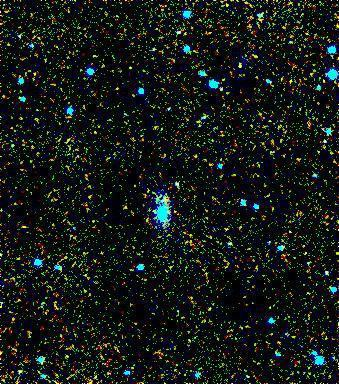star: (109, 193, 139, 223)
